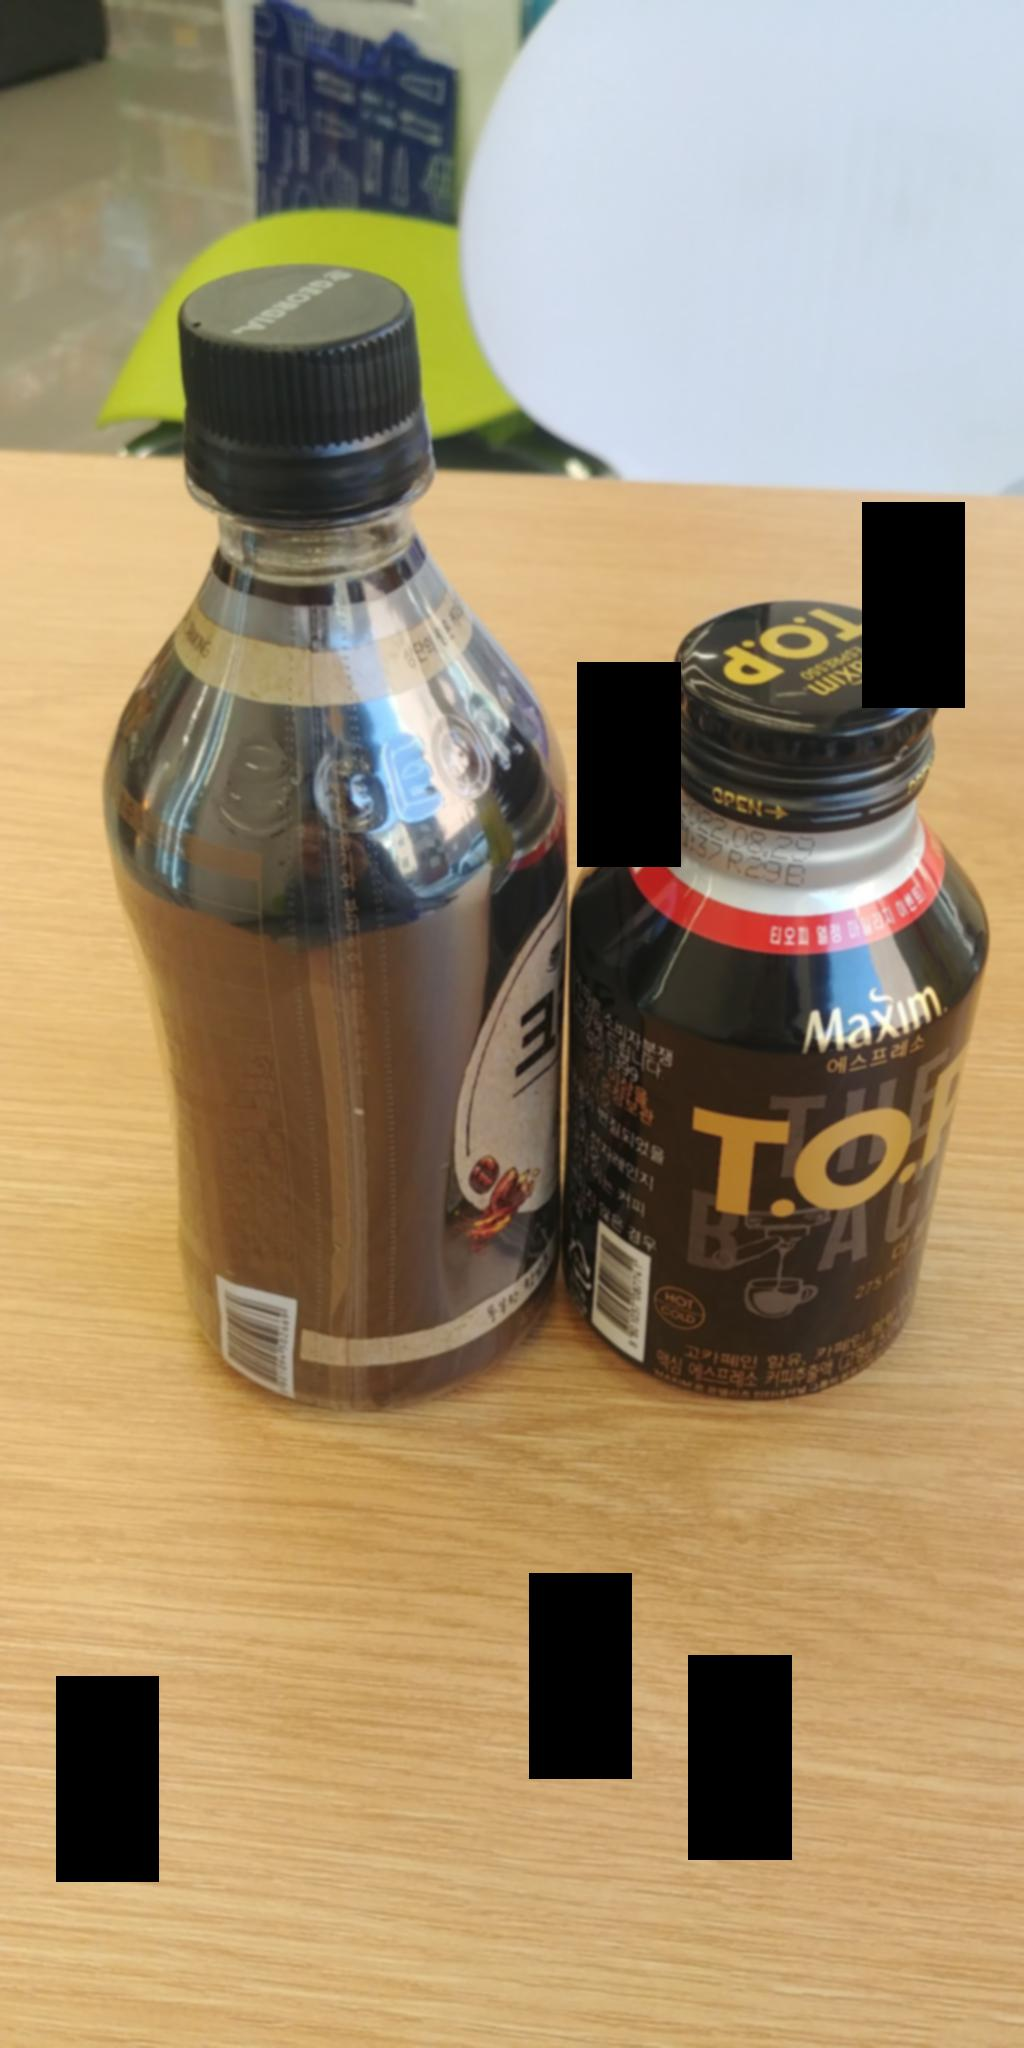TOP_black: (558, 551, 997, 1451)
georgiacraft_black: (80, 236, 549, 1443)
